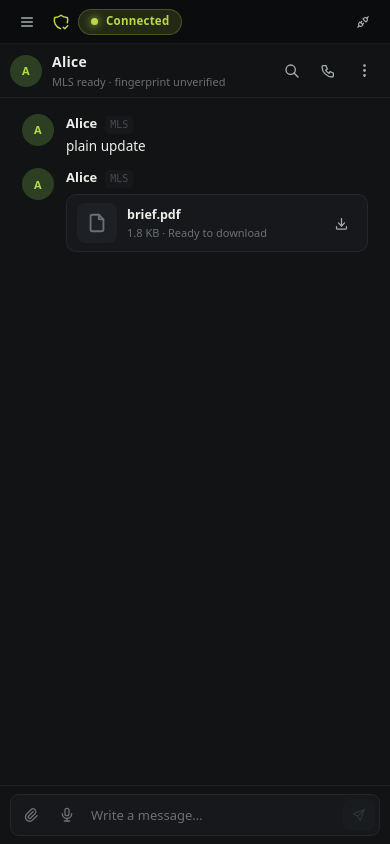
Test: PrivateDmScreen conversations › keeps files and delete behind the chat actions menu
Expected: the text "plain update" is shown, [66, 137, 146, 155]
Click the button named "More chat actions" at (364, 70), box [348, 54, 380, 86]
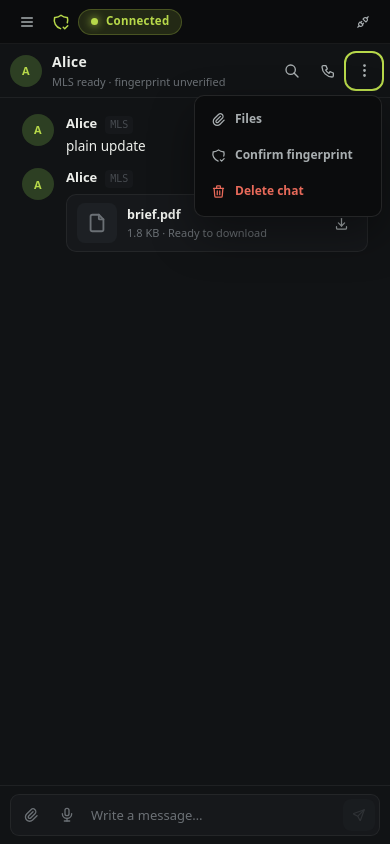
Click the menu item "Files" at (288, 120), box [201, 102, 375, 138]
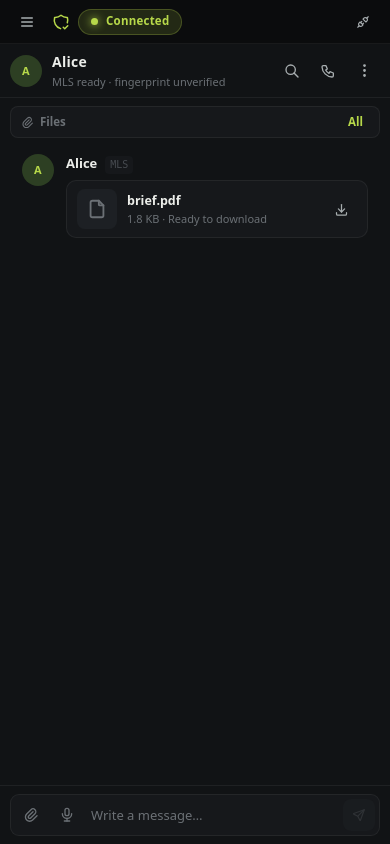
Expected: the text "brief.pdf" is shown, [127, 192, 181, 208]
Expected: the text "plain update" is gone
Click the button named "More chat actions" at (364, 70), box [348, 54, 380, 86]
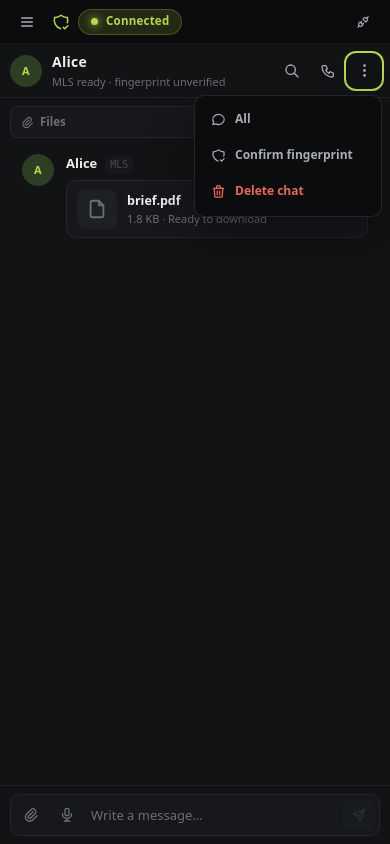
Click the menu item "Delete chat" at (288, 192), box [201, 174, 375, 210]
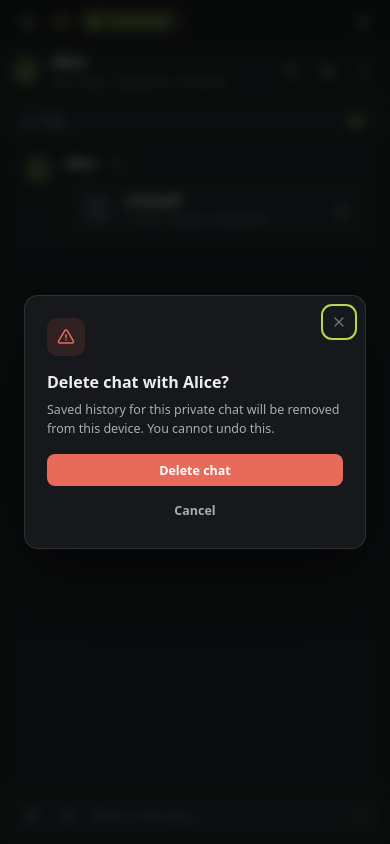
Expected: the dialog "Delete chat with Alice?" is shown, [24, 295, 366, 549]
